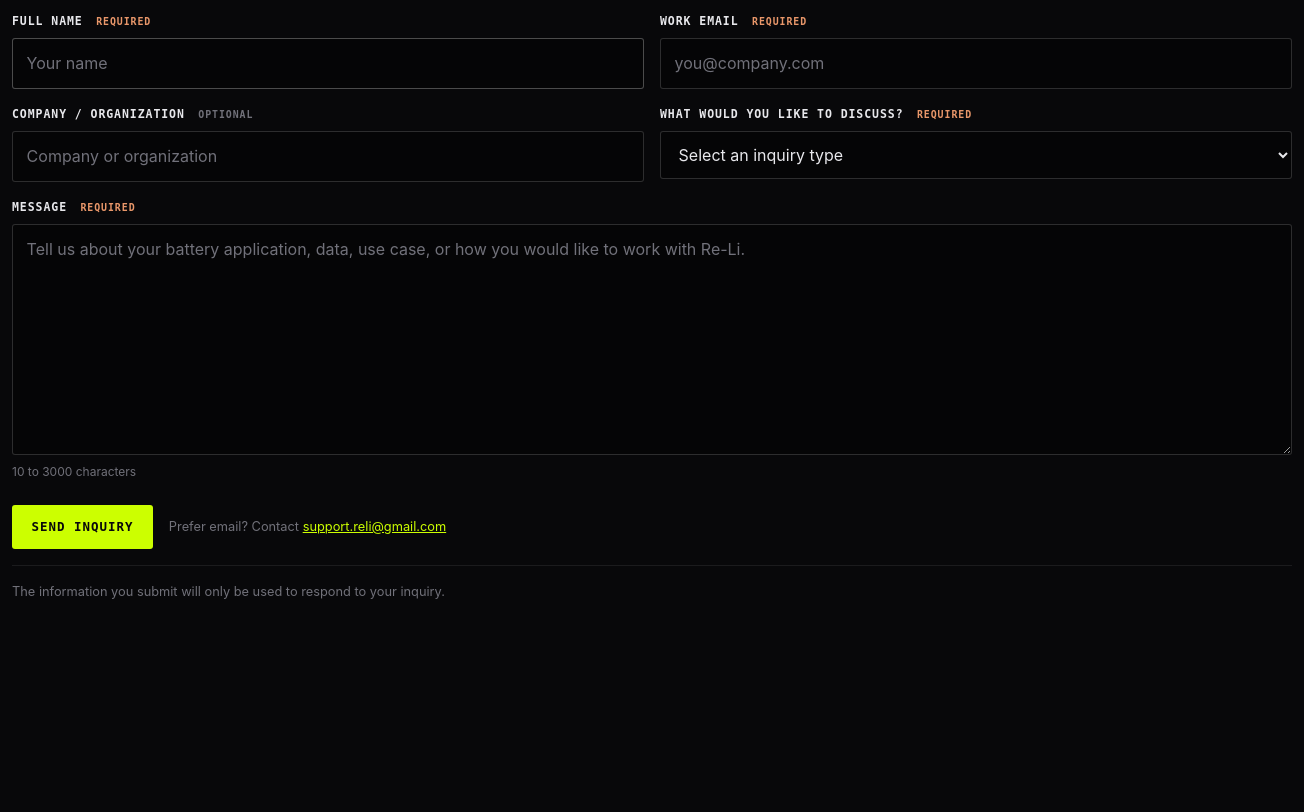
Test: contact inquiry form › rejects an invalid email, missing inquiry type, and too-short message without clearing valid fields
In the field labelled "Full Name Required": [328, 63] box [12,38,644,89], type "Asha Rao"
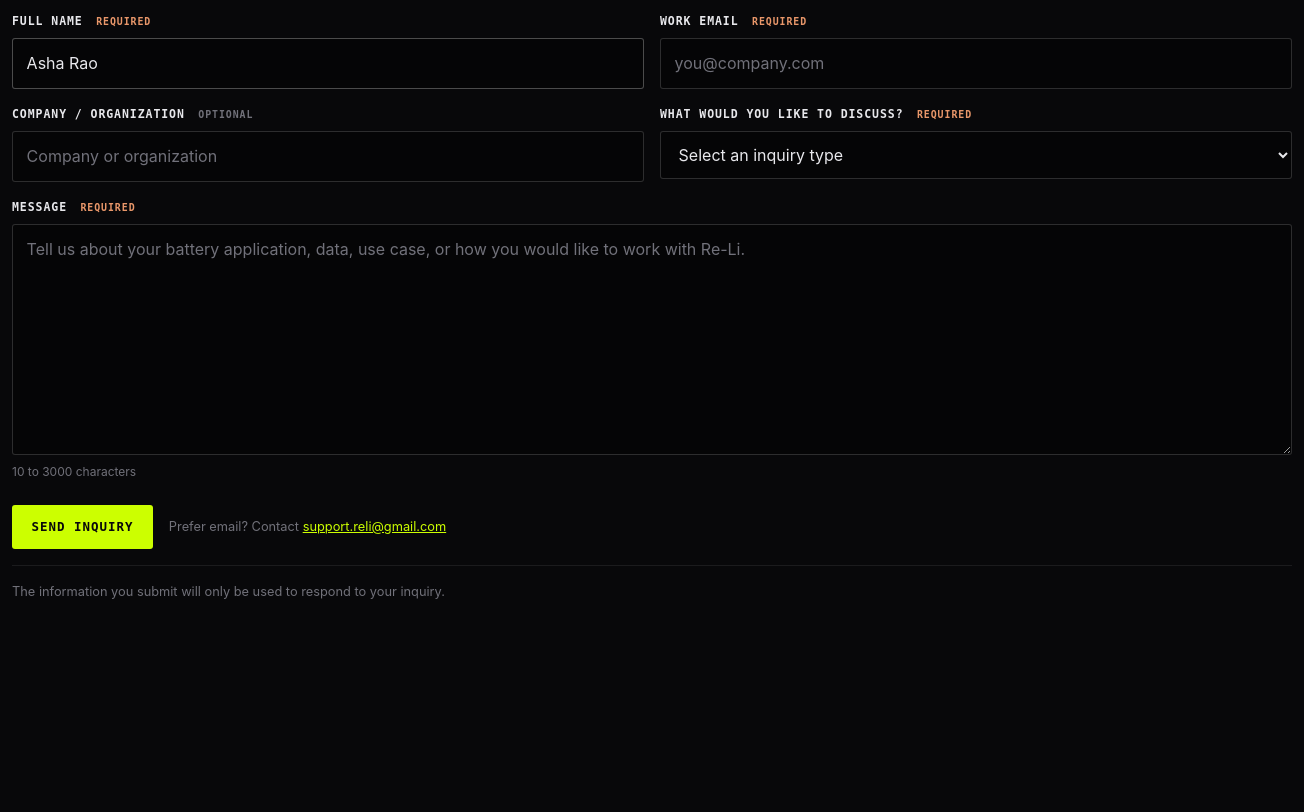
In the field labelled "Work Email Required": [976, 63] box [660,38,1292,89], type "not-an-email"
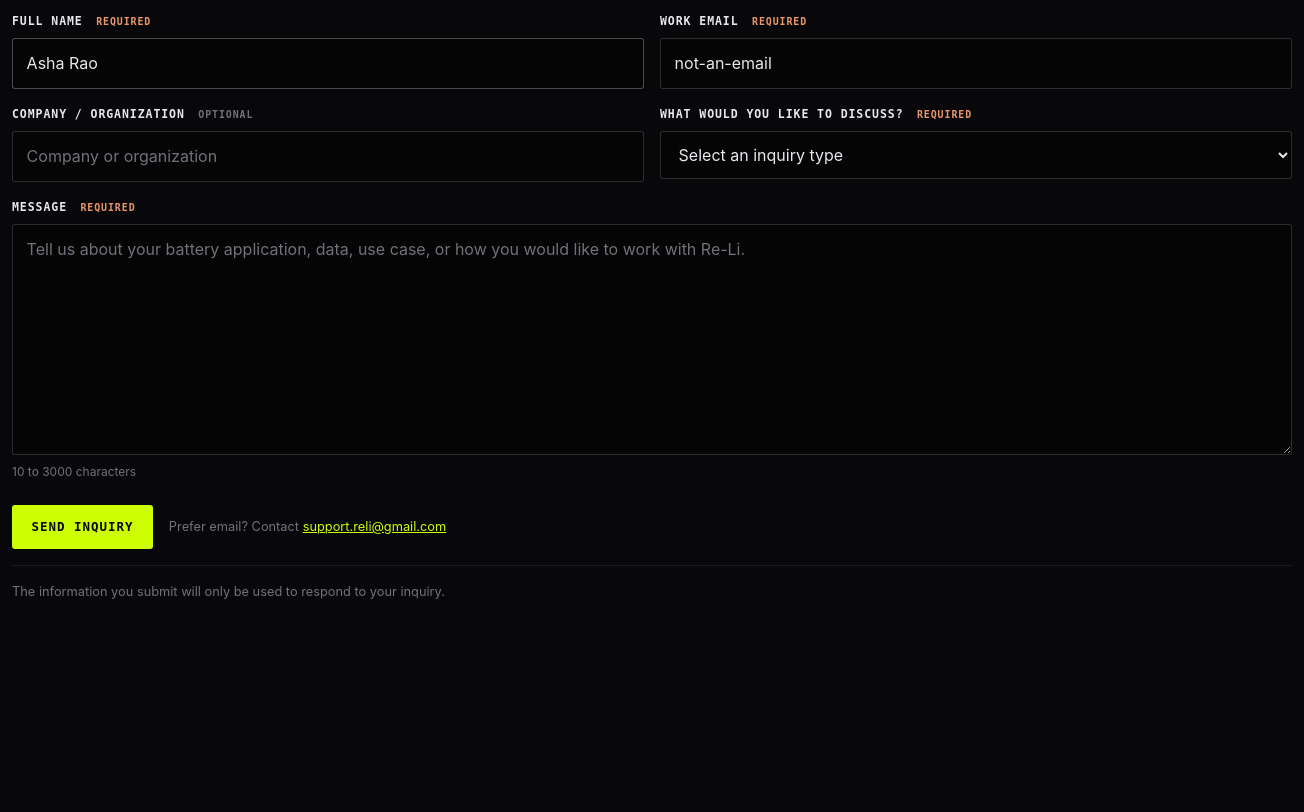
Replace the text in the text box labelled "Message Required" with "short": [652, 339] box [12,224,1292,455]
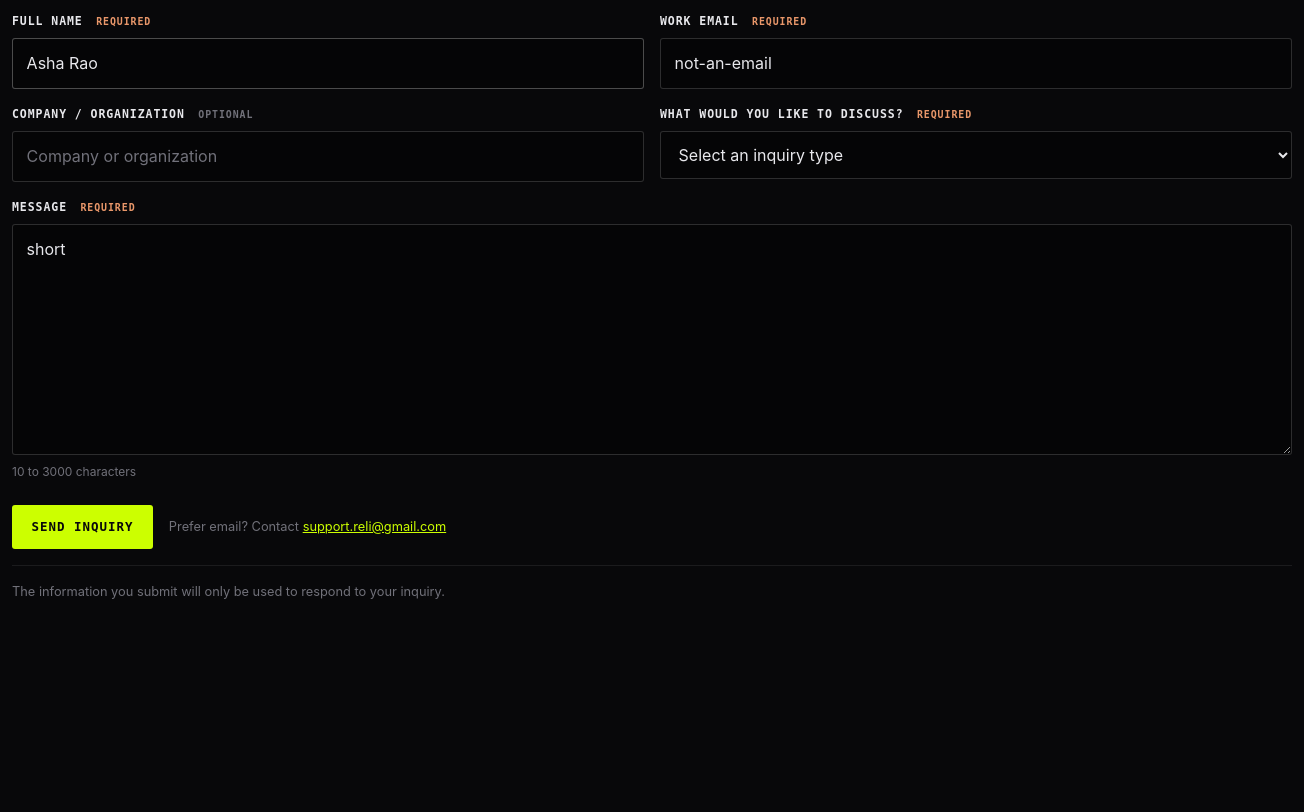
Click the button "Send Inquiry": [82, 527] box [12,505,153,549]
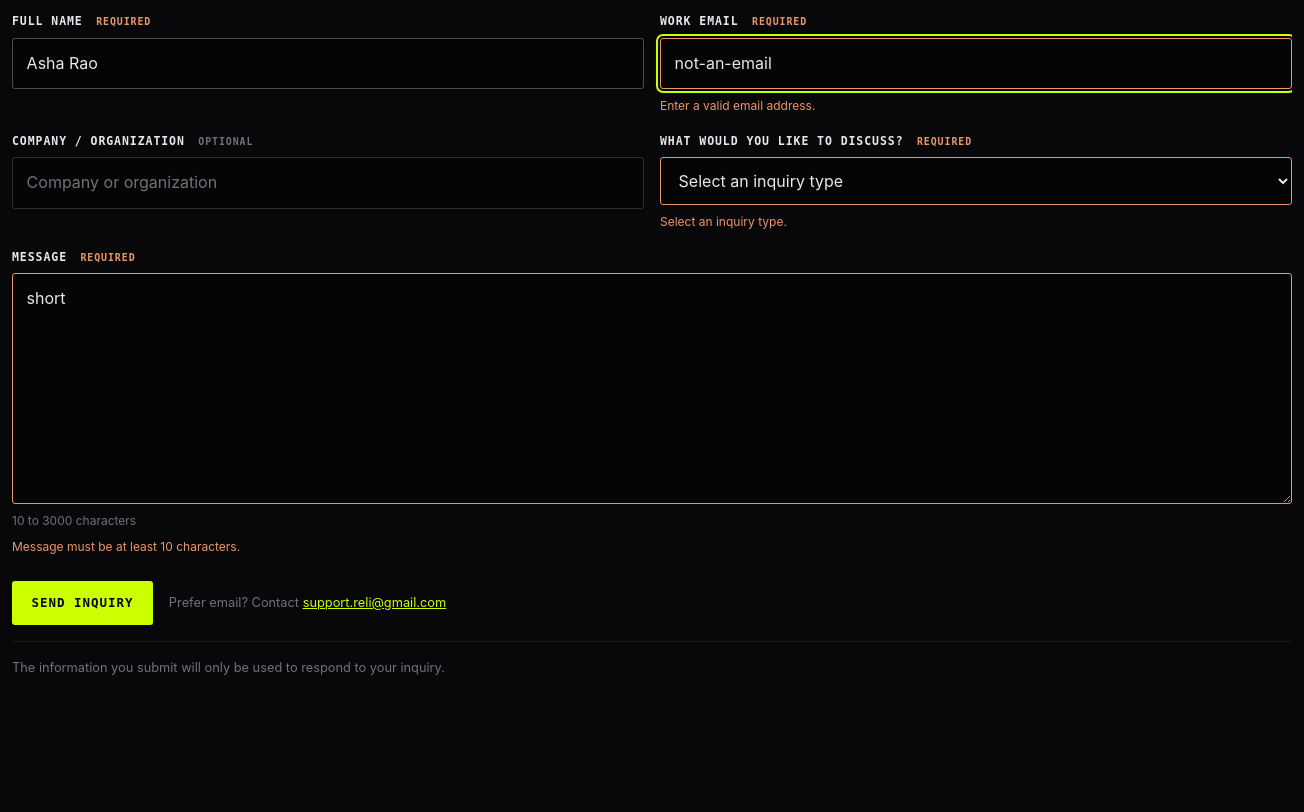
Now the text "Enter a valid email address." is shown, box [660,98,815,113]
Now the text "Select an inquiry type." is shown, box [660,214,787,229]
Now the text "Message must be at least 10 characters." is shown, box [12,540,240,554]
